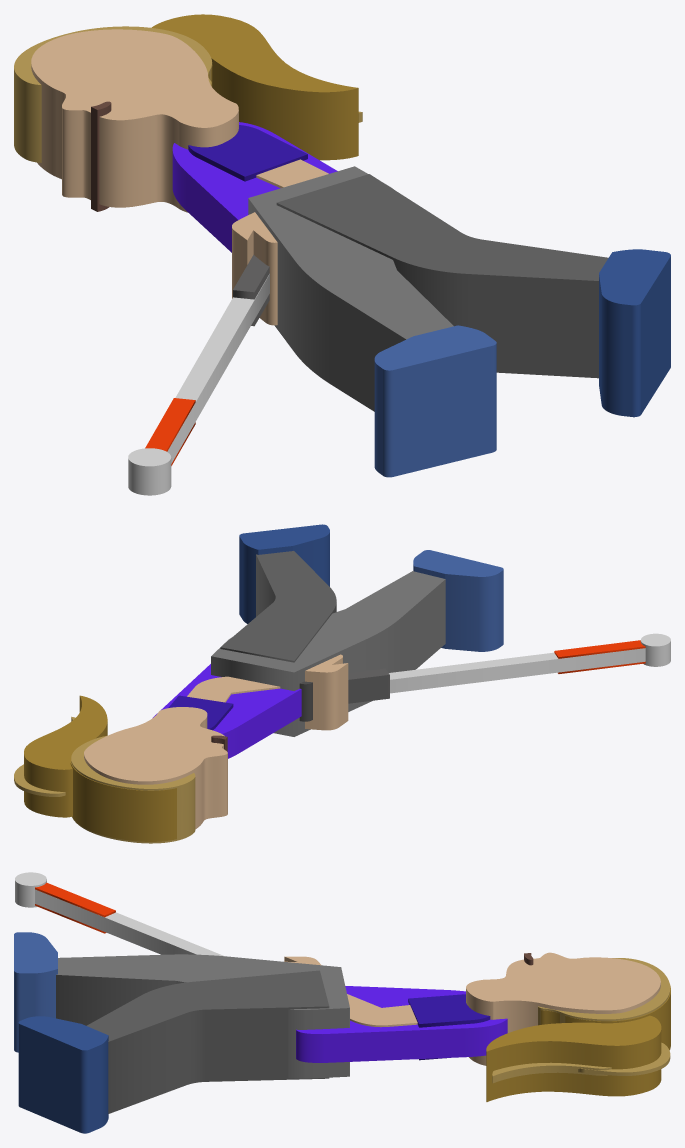
The model's file is emoji_u1f469_1f3fc_200d_1f9af.glb.
3 views of the same model, one above another, from view 1: azimuth 30°, elevation 25°; view 2: azimuth 150°, elevation 25°; view 3: azimuth 270°, elevation 25° (orthographic). The views are drawn at different scales.
Visible parts, largest first — view 1: emoji_u1f469_1f3fc_200d_1f9af; view 2: emoji_u1f469_1f3fc_200d_1f9af; view 3: emoji_u1f469_1f3fc_200d_1f9af.
Boxes of the visible parts, x1,y1,x2,y2 form: emoji_u1f469_1f3fc_200d_1f9af: (14,14,670,495); emoji_u1f469_1f3fc_200d_1f9af: (14,524,670,843); emoji_u1f469_1f3fc_200d_1f9af: (14,872,670,1133).
Size of the model in its own units: 0.0248 by 0.0046 by 0.033.
